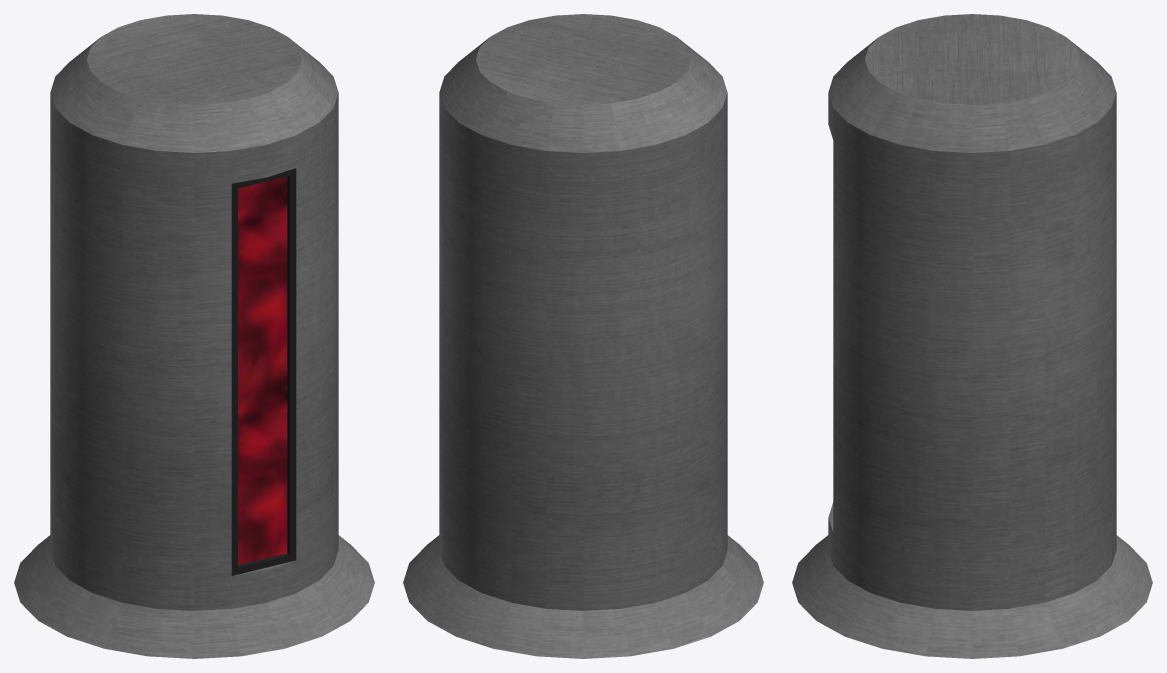
Rendered from Huge Battery.obj.
3 renders of one model, left to right at view 1: azimuth 30°, elevation 25°; view 2: azimuth 150°, elevation 25°; view 3: azimuth 270°, elevation 25°, orthographic.
Parts seen in each view (by area): view 1: Mesh1 Group1 Model; view 2: Mesh1 Group1 Model; view 3: Mesh1 Group1 Model.
Boxes of the visible parts, <box> form: Mesh1 Group1 Model: <box>14,14,374,658</box>; Mesh1 Group1 Model: <box>403,14,763,658</box>; Mesh1 Group1 Model: <box>792,14,1152,658</box>.
Bounding box in the file's own units: 1 × 1.6 × 1.
Materials: 4 (2 with a texture image).
